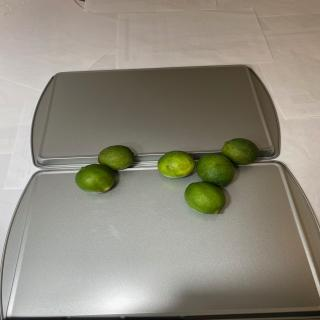Lemon: (184, 182, 226, 214), (196, 153, 235, 187), (75, 164, 115, 194), (157, 150, 195, 178), (222, 138, 260, 165), (98, 145, 134, 170)
